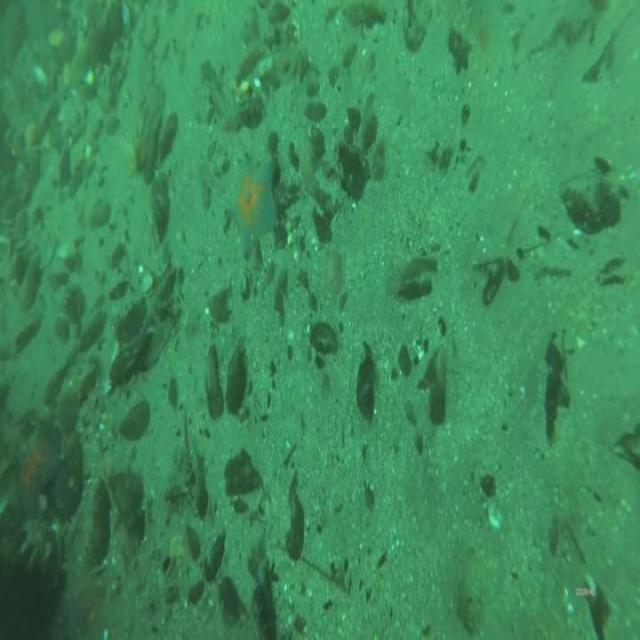holothurian: (230, 150, 276, 250), (12, 430, 62, 515)
